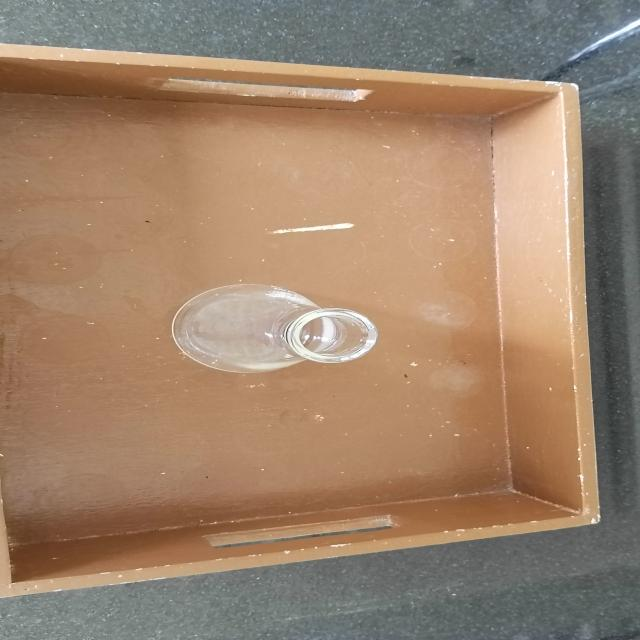erlenmeyer_flask: (157, 278, 389, 380)
